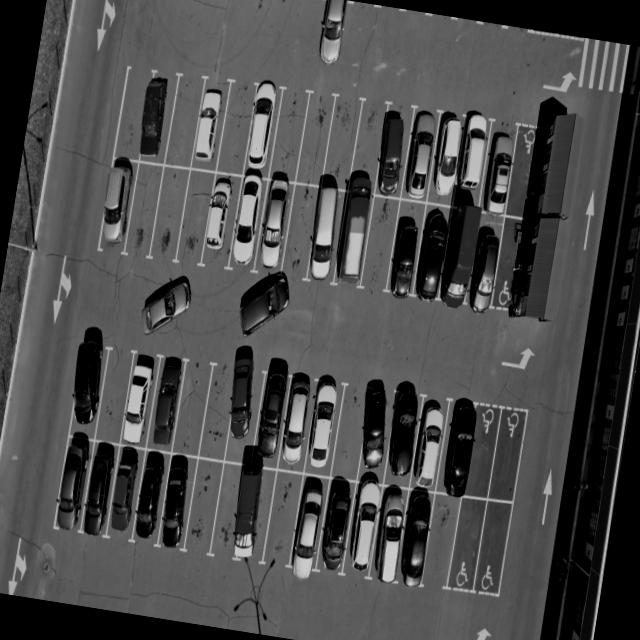car: (228, 461, 280, 567), (222, 360, 270, 464), (134, 68, 182, 168), (436, 203, 483, 304), (302, 375, 349, 475), (64, 336, 110, 438), (286, 473, 332, 574), (223, 174, 270, 272), (117, 351, 163, 451), (147, 352, 193, 452), (198, 170, 244, 270), (154, 451, 200, 550), (312, 474, 358, 573), (190, 75, 236, 173), (253, 177, 299, 275), (273, 372, 318, 472), (94, 156, 139, 256), (302, 185, 348, 282), (353, 385, 398, 484), (250, 368, 294, 469), (339, 481, 385, 576), (332, 189, 377, 286), (426, 109, 471, 205), (408, 392, 452, 490), (104, 442, 148, 539), (240, 84, 284, 180), (383, 198, 427, 294), (412, 202, 456, 298), (398, 108, 442, 203), (382, 389, 424, 488), (132, 446, 174, 545), (372, 104, 415, 198), (451, 115, 494, 209), (392, 486, 434, 582), (80, 439, 122, 534), (440, 401, 481, 498), (371, 482, 412, 578), (466, 214, 504, 315), (54, 438, 94, 530), (484, 122, 522, 215)
free: (259, 467, 307, 572), (146, 164, 194, 266), (214, 80, 260, 180), (93, 347, 139, 447), (122, 160, 167, 260), (171, 358, 216, 458), (196, 359, 240, 461), (176, 166, 220, 268), (356, 194, 402, 290), (348, 98, 394, 194), (278, 182, 324, 278), (162, 74, 207, 172), (328, 381, 372, 481), (181, 456, 225, 556), (209, 458, 250, 560), (268, 89, 312, 182), (446, 494, 488, 591), (113, 65, 155, 162), (422, 492, 464, 588), (488, 408, 530, 504), (474, 499, 516, 594), (295, 92, 337, 184), (320, 96, 361, 190), (463, 404, 502, 501)
